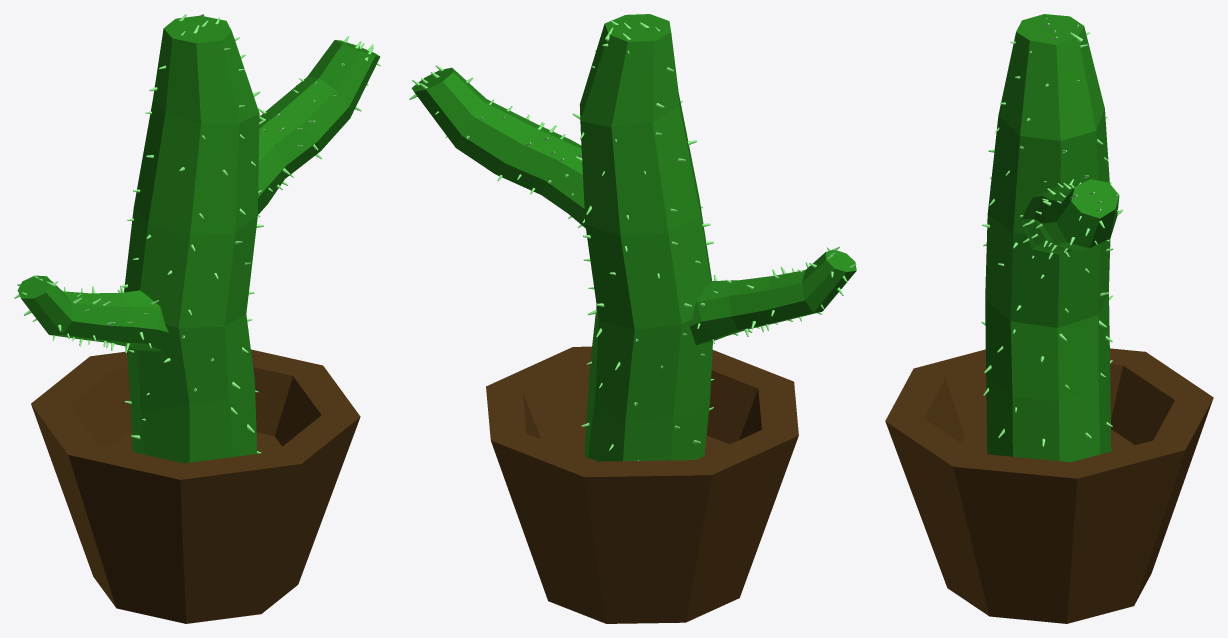
Rendered from Cactus00.fbx.
The picture shows the model from 3 angles, left to right: view 1: azimuth 30°, elevation 25°; view 2: azimuth 150°, elevation 25°; view 3: azimuth 270°, elevation 25°; orthographic projection.
Parts seen in each view (by area): view 1: Cactus, Pot, Cactus spikes; view 2: Cactus, Pot, Cactus spikes; view 3: Pot, Cactus, Cactus spikes.
Boxes of the visible parts, <box> form: Cactus: <box>17,15,380,463</box>; Pot: <box>31,349,360,623</box>; Cactus spikes: <box>14,14,380,453</box>; Cactus: <box>411,14,856,461</box>; Pot: <box>486,346,798,623</box>; Cactus spikes: <box>409,20,856,460</box>; Pot: <box>885,348,1213,623</box>; Cactus: <box>985,14,1119,462</box>; Cactus spikes: <box>981,18,1122,447</box>.
Bounding box in the file's own units: 128 × 170 × 90.68.
